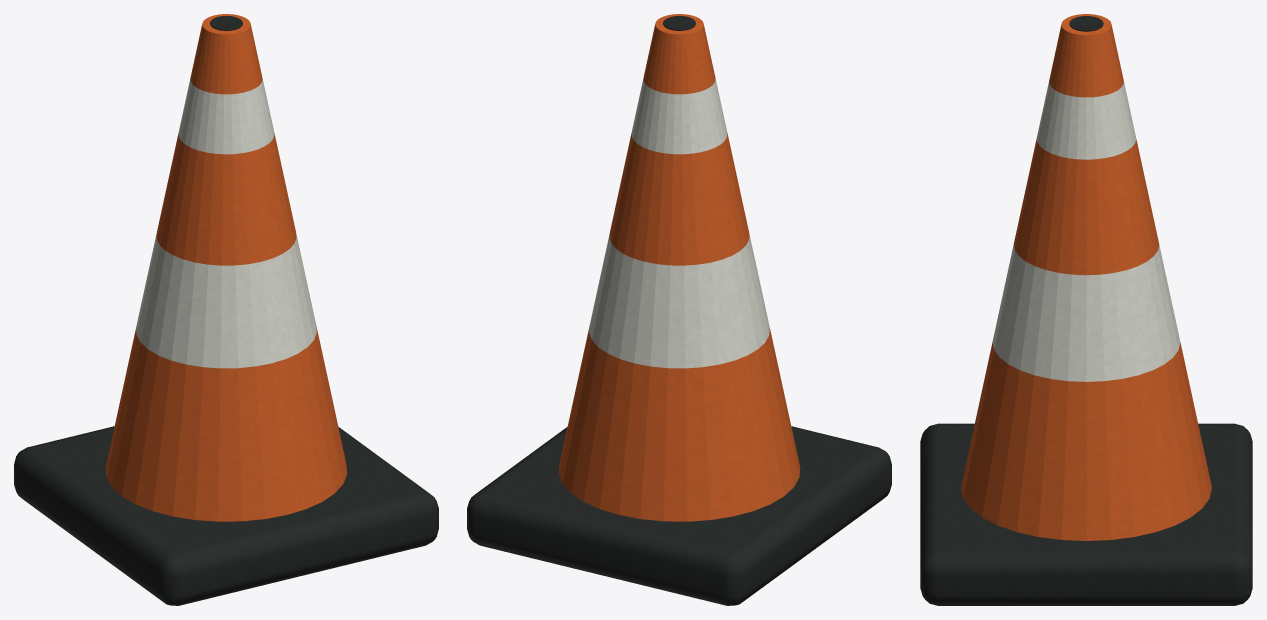
File: traffic-cone.glb
The picture shows the model from 3 angles, left to right: view 1: azimuth 30°, elevation 25°; view 2: azimuth 150°, elevation 25°; view 3: azimuth 270°, elevation 25°; orthographic projection. The views are drawn at different scales.
Visible parts, largest first — view 1: traffic-cone__body; view 2: traffic-cone__body; view 3: traffic-cone__body.
Part boxes in pixels (x1=…): traffic-cone__body: x1=14, y1=14, x2=438, y2=605; traffic-cone__body: x1=467, y1=14, x2=891, y2=605; traffic-cone__body: x1=920, y1=14, x2=1252, y2=605.
Size of the model in its own units: 0.37 by 0.637 by 0.37.
3 materials, 3 textured.
